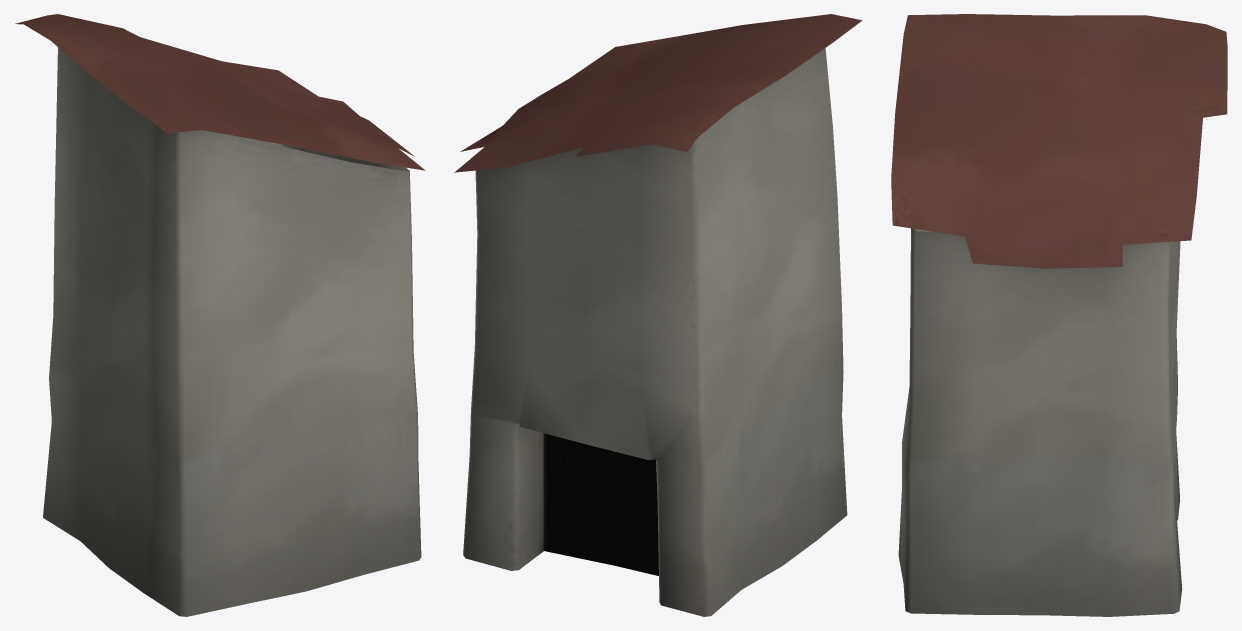
File: MSH_Building_Hole_001.glb
3 renders of one model, left to right at view 1: azimuth 30°, elevation 25°; view 2: azimuth 150°, elevation 25°; view 3: azimuth 270°, elevation 25°, orthographic. The views are drawn at different scales.
Visible parts, largest first — view 1: MSH_Building_001.001; view 2: MSH_Building_001.001; view 3: MSH_Building_001.001.
Boxes of the visible parts, x1,y1,x2,y2 form: MSH_Building_001.001: [15, 14, 425, 616]; MSH_Building_001.001: [454, 14, 862, 616]; MSH_Building_001.001: [891, 14, 1227, 616].
Size of the model in its own units: 6.04 by 9.85 by 6.28.
1 material, 1 textured.
